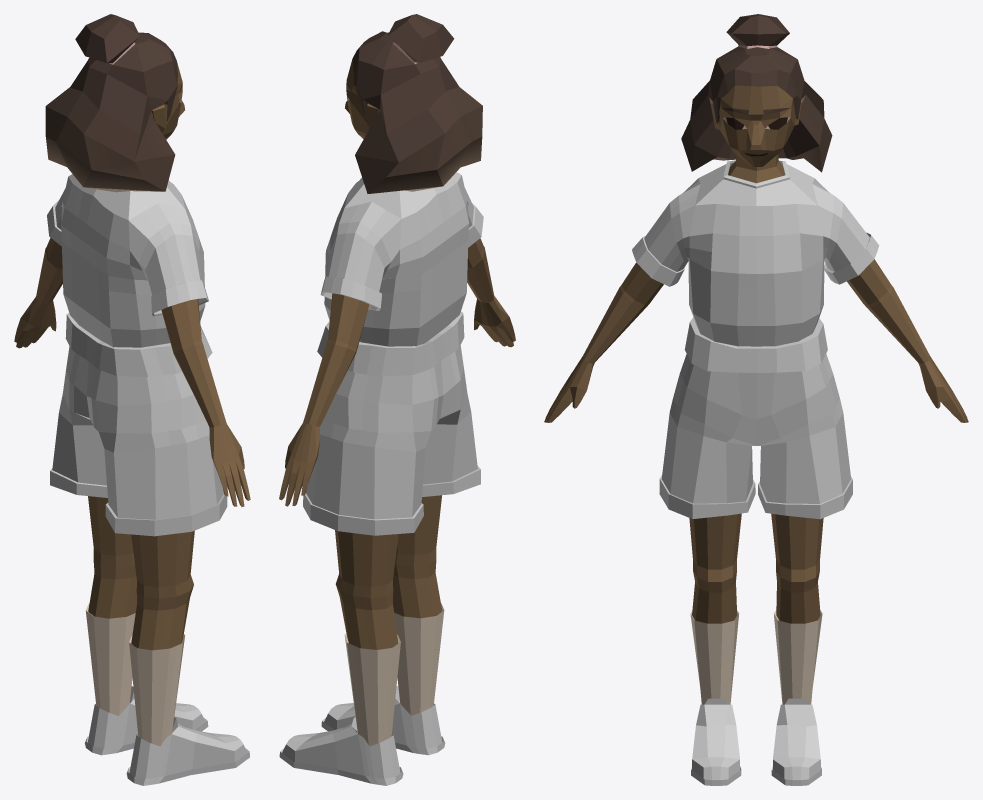
The model's file is human_Variant1.fbx.
The picture shows the model from 3 angles, left to right: view 1: azimuth 30°, elevation 25°; view 2: azimuth 150°, elevation 25°; view 3: azimuth 270°, elevation 25°; orthographic projection. The views are drawn at different scales.
Visible parts, largest first — view 1: body, shorts, shirt, shoes; view 2: body, shorts, shirt, shoes; view 3: body, shorts, shirt, shoes.
Part boxes in pixels (bbox=[...]): body: bbox=[14, 14, 250, 746]; shorts: bbox=[50, 313, 227, 536]; shirt: bbox=[47, 174, 208, 347]; shoes: bbox=[84, 686, 249, 785]; body: bbox=[279, 14, 515, 746]; shorts: bbox=[303, 311, 480, 535]; shirt: bbox=[320, 172, 483, 346]; shoes: bbox=[279, 686, 445, 785]; body: bbox=[544, 14, 968, 704]; shorts: bbox=[659, 317, 852, 519]; shirt: bbox=[632, 160, 879, 346]; shoes: bbox=[691, 698, 821, 785].
Size of the model in its own units: 951 by 4081 by 2180.
